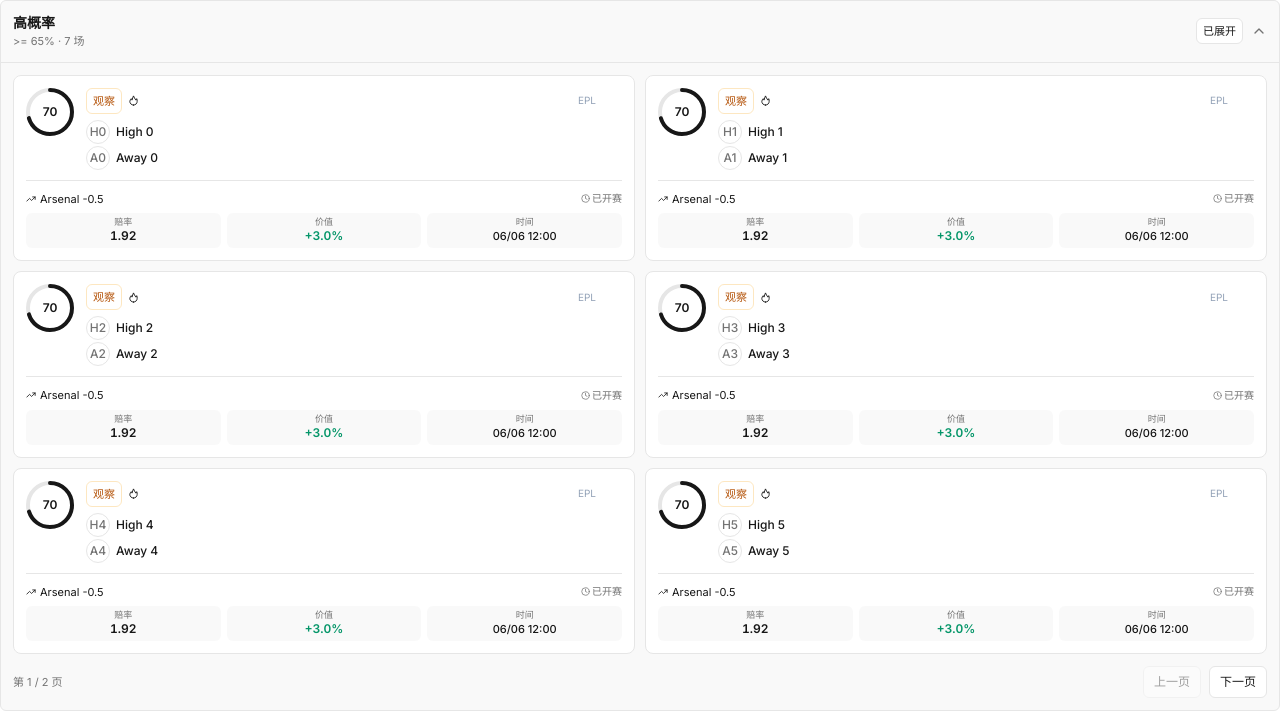
it: PickGrid › supports collapsing and paginating each probability group
Check: the text "第 1 / 2 页" is shown, box x1=13 y1=674 x2=62 y2=690
Check: the text "High 0" is shown, box x1=116 y1=124 x2=154 y2=138
What coordinates should you click on to do the following:
click the button "下一页"
I would click on:
 (1238, 682)
Its box is x1=1209 y1=666 x2=1267 y2=698.
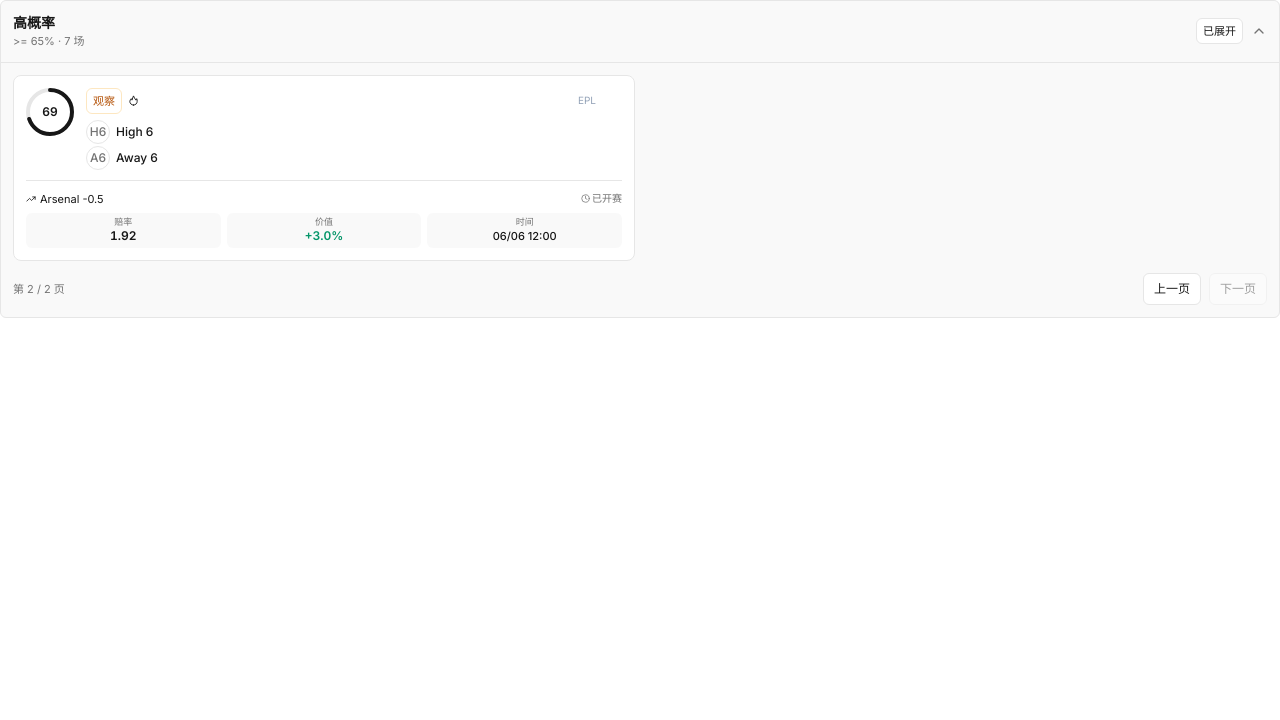
Check: the text "第 2 / 2 页" is shown, box x1=13 y1=281 x2=65 y2=297
Check: the text "High 6" is shown, box x1=116 y1=124 x2=153 y2=138
What coordinates should you click on to do the following:
click the button "高概率 >= 65% · 7 场 已展开"
I would click on:
 (34, 22)
Its box is x1=1 y1=1 x2=1279 y2=62.
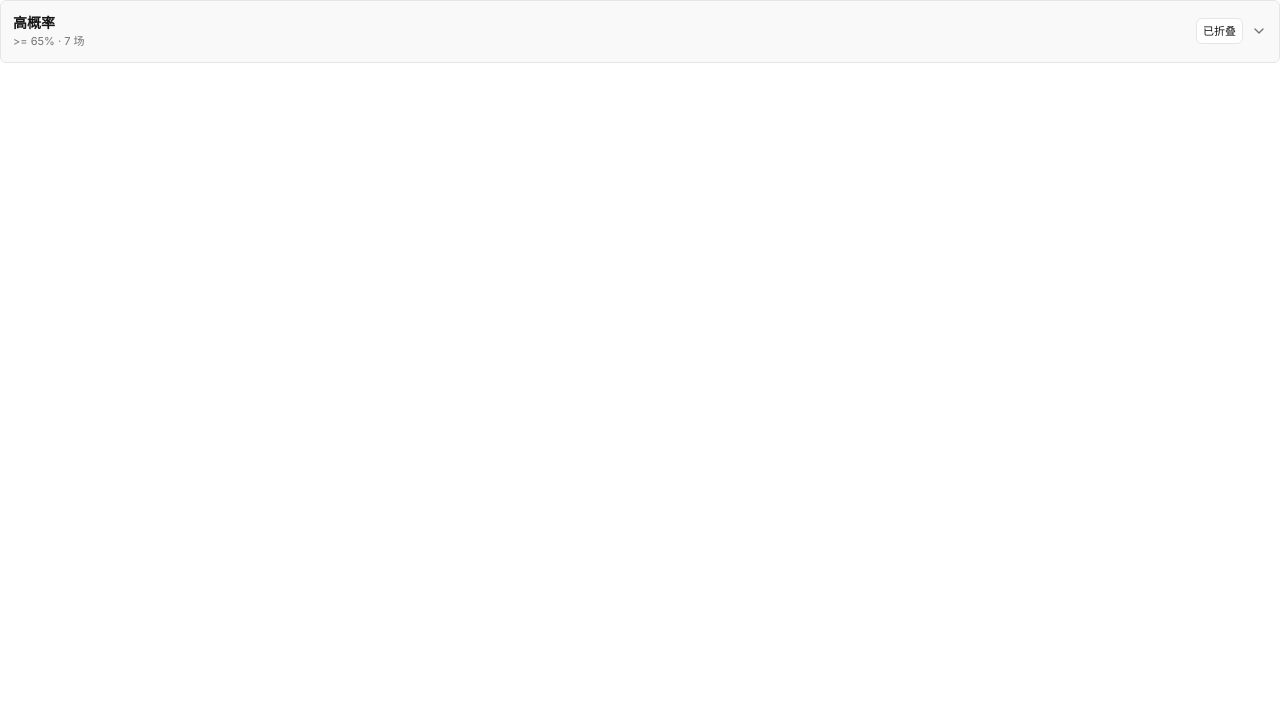
Check: the button "High 6" is gone
